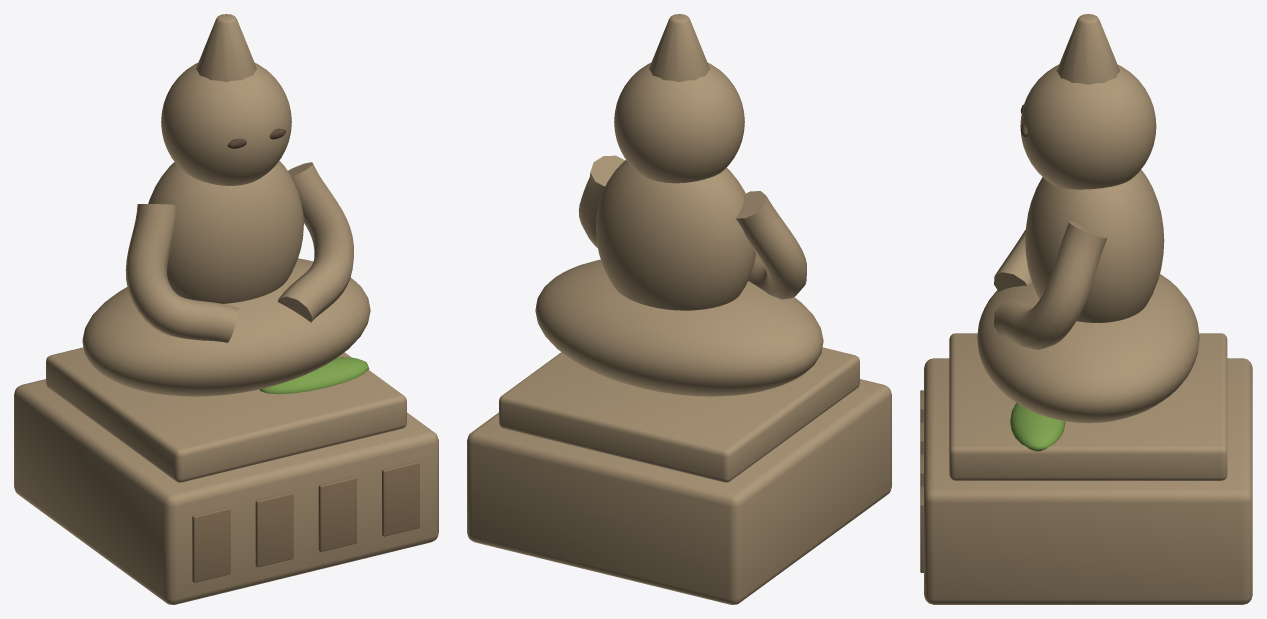
The model's file is arca.glb.
The picture shows the model from 3 angles, left to right: view 1: azimuth 30°, elevation 25°; view 2: azimuth 150°, elevation 25°; view 3: azimuth 270°, elevation 25°; orthographic projection. The views are drawn at different scales.
Parts seen in each view (by area): view 1: Cube, Cube.001, Sphere, Sphere.001, Sphere.002, tube, tube.001, Cone, Cube.002, Cube.003, Cube.004, Cube.005 (+1 smaller); view 2: Cube, Cube.001, Sphere, Sphere.001, Sphere.002, tube, Cone, tube.001; view 3: Cube, Cube.001, Sphere, Sphere.001, Sphere.002, tube.001, Cone, Sphere.005, tube.
Boxes of the visible parts, bbox=[...] form: Cube: bbox=[14, 379, 438, 604]; Cube.001: bbox=[46, 347, 406, 482]; Sphere: bbox=[82, 258, 370, 396]; Sphere.001: bbox=[148, 160, 303, 303]; Sphere.002: bbox=[161, 63, 291, 185]; tube: bbox=[125, 204, 238, 342]; tube.001: bbox=[278, 162, 353, 322]; Cone: bbox=[196, 14, 256, 81]; Cube.002: bbox=[192, 507, 230, 582]; Cube.003: bbox=[255, 492, 293, 567]; Cube.004: bbox=[318, 476, 356, 551]; Cube.005: bbox=[382, 461, 419, 536]; Cube: bbox=[467, 379, 891, 604]; Cube.001: bbox=[499, 347, 859, 482]; Sphere: bbox=[535, 259, 823, 396]; Sphere.001: bbox=[596, 160, 755, 310]; Sphere.002: bbox=[614, 63, 744, 183]; tube: bbox=[735, 191, 806, 299]; Cone: bbox=[649, 14, 709, 81]; tube.001: bbox=[578, 155, 624, 247]; Cube: bbox=[924, 358, 1252, 604]; Cube.001: bbox=[949, 333, 1227, 480]; Sphere: bbox=[977, 274, 1199, 423]; Sphere.001: bbox=[1025, 169, 1164, 322]; Sphere.002: bbox=[1020, 64, 1156, 189]; tube.001: bbox=[994, 221, 1107, 349]; Cone: bbox=[1056, 14, 1120, 84]; Sphere.005: bbox=[1010, 403, 1065, 451]; tube: bbox=[994, 230, 1031, 291].
Size of the model in its own units: 2.6 by 4.55 by 2.63.
